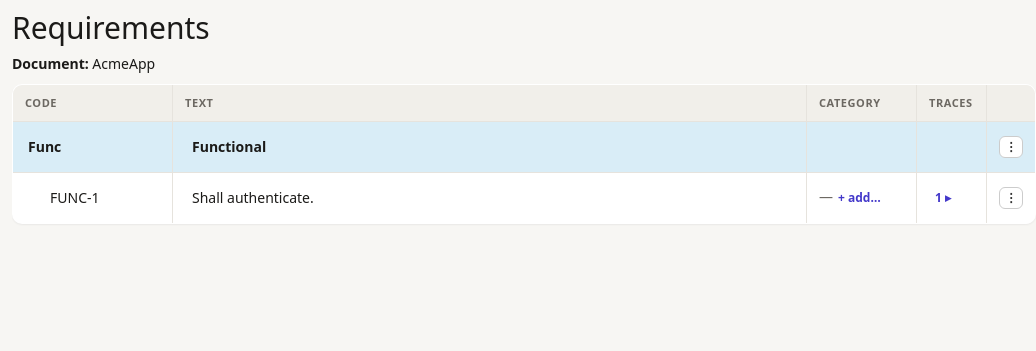
Test: SRSTable — authoring the trace (TR-1) › shows an unresolved reference rather than dropping it
Click the button named "Show trace for r_001": click(943, 198) [929,187,957,209]
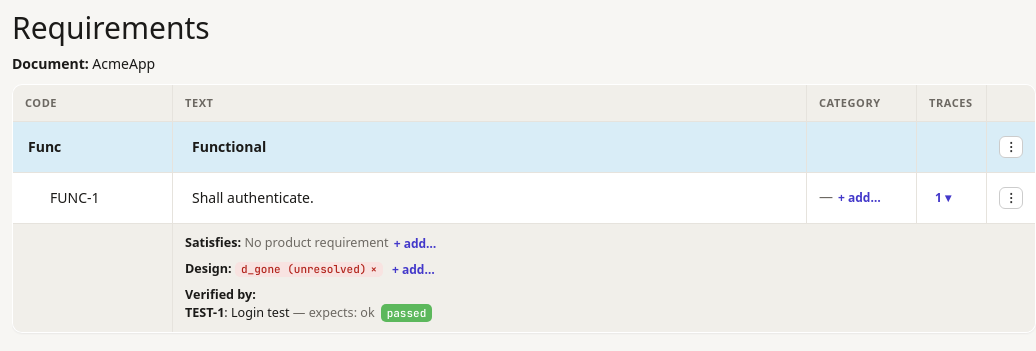
Check: the text "d_gone (unresolved) ×" is shown, box [235,262,383,277]
